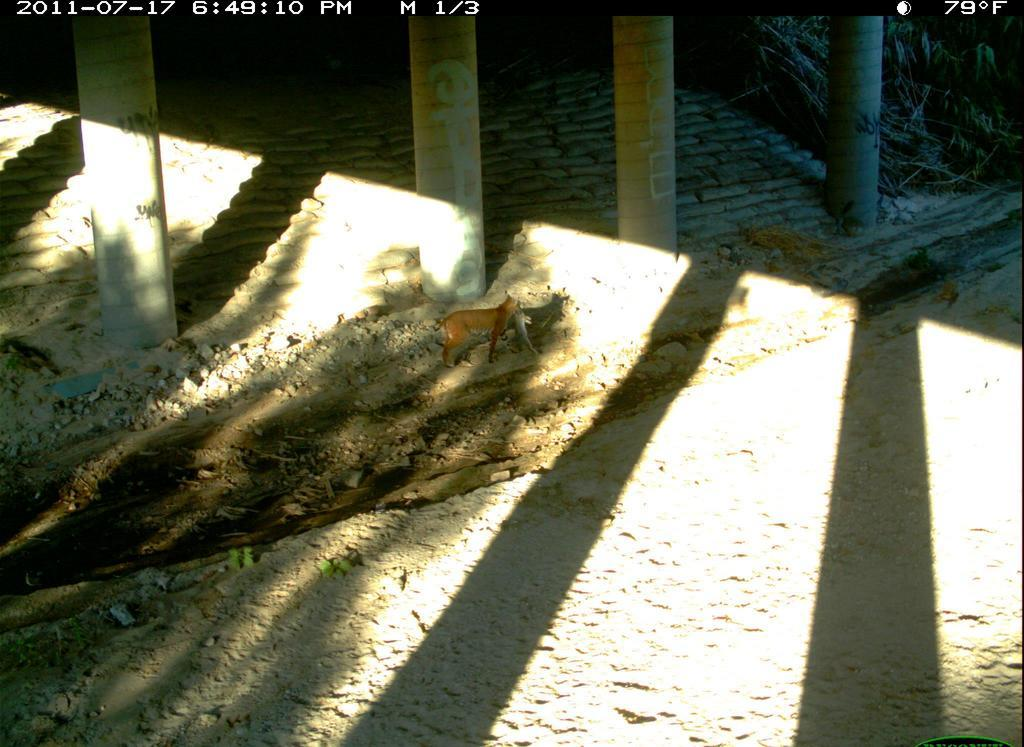bobcat: (860, 574, 1024, 747)
